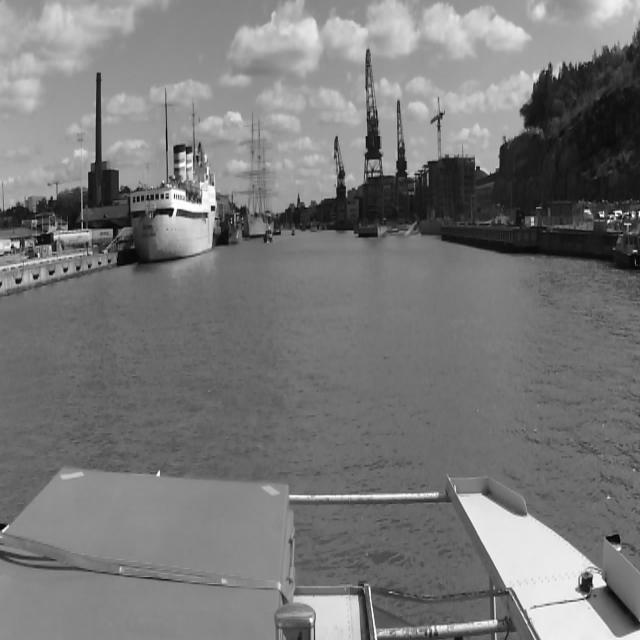ship: (131, 147, 219, 256), (235, 112, 278, 235), (612, 230, 636, 270), (219, 210, 243, 244), (264, 230, 272, 243), (288, 226, 296, 234)
